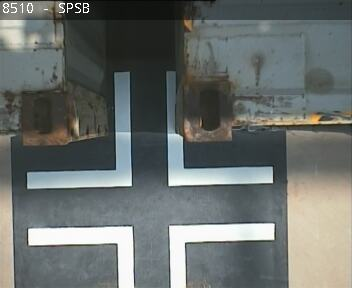groundmarker_1: (26, 72, 272, 190), (27, 222, 275, 288)
